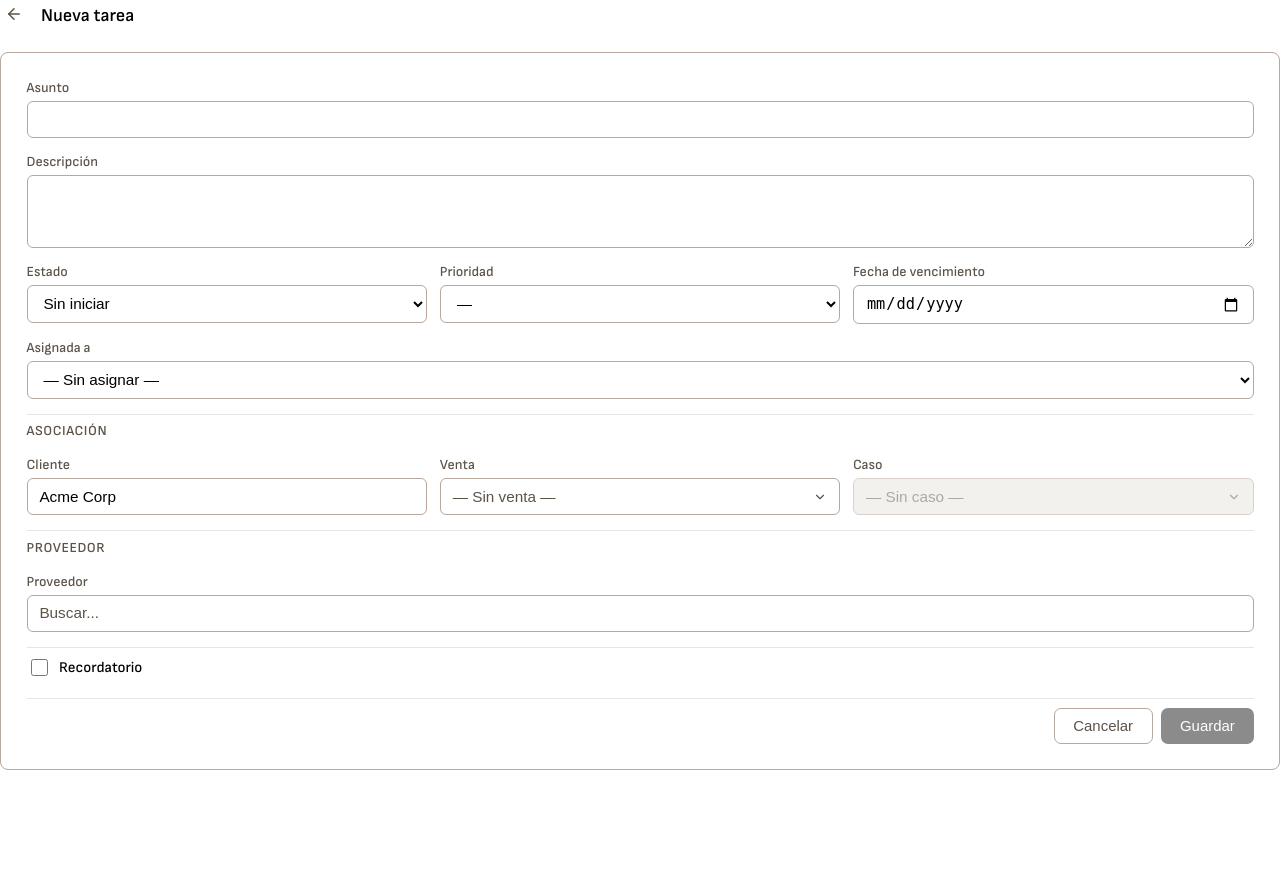
Scenario: TaskForm › hides reminder fields when checkbox is unticked
Click the checkbox at x=39, y=668, box [30,659,48,676]
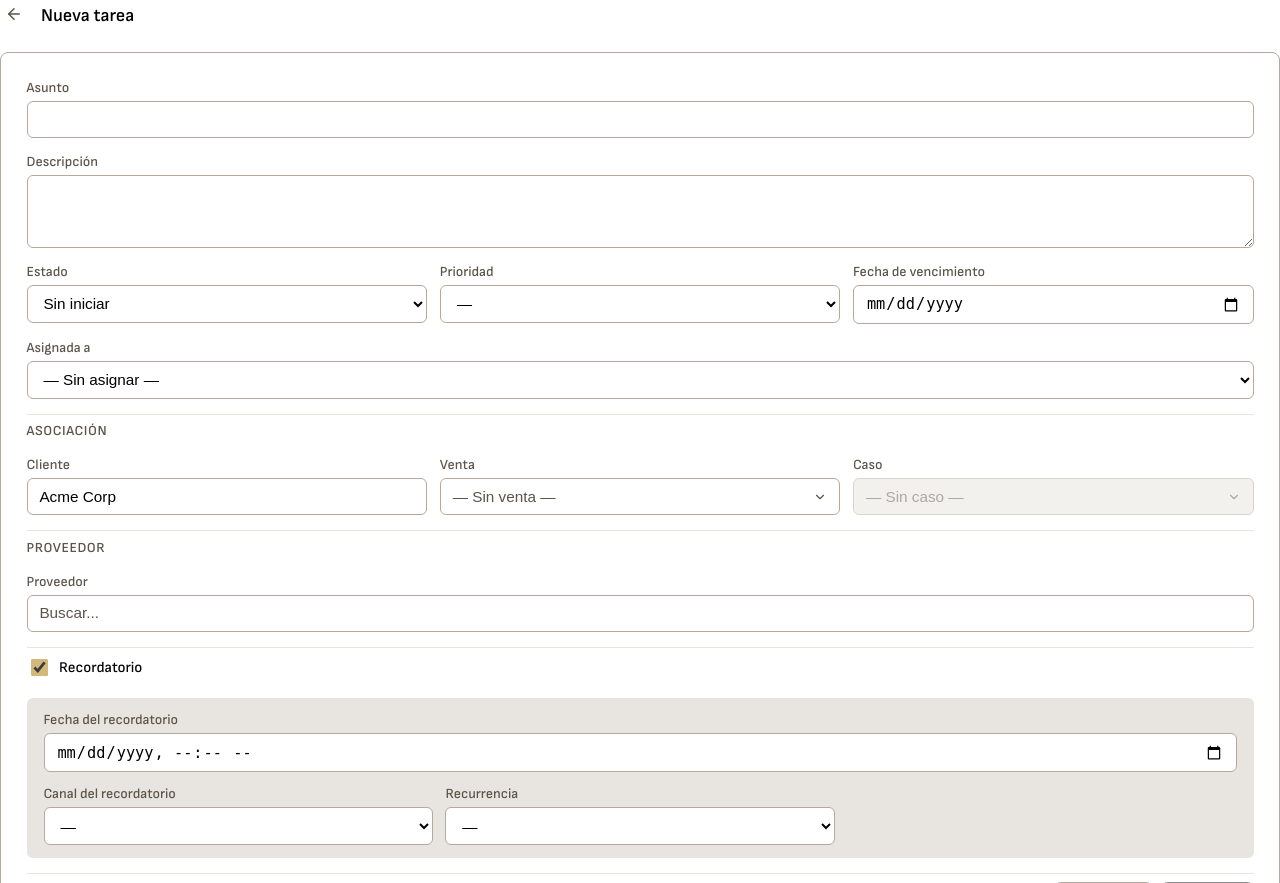
Click the checkbox at x=39, y=668, box [30,659,48,676]
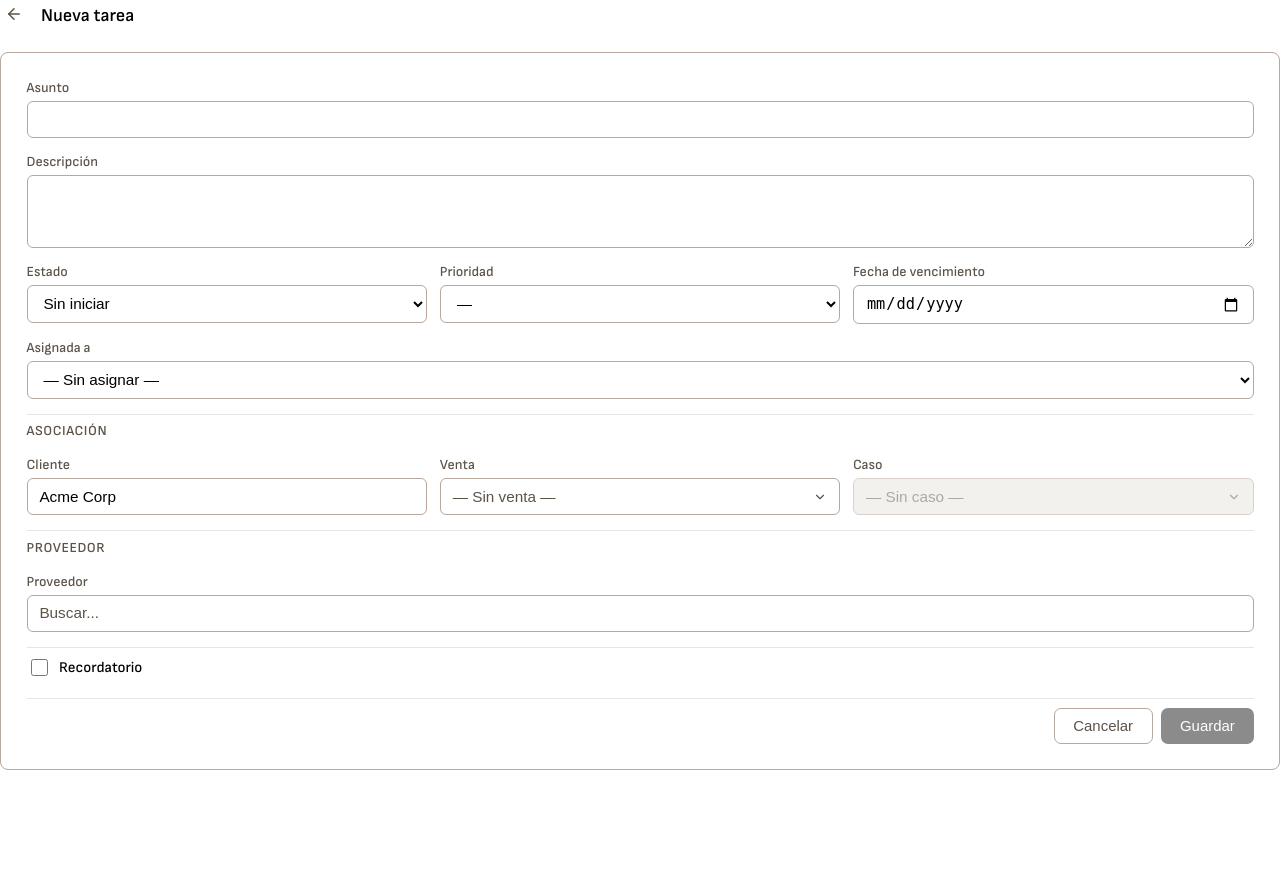
Result: the label labelled "Fecha del recordatorio" is gone
